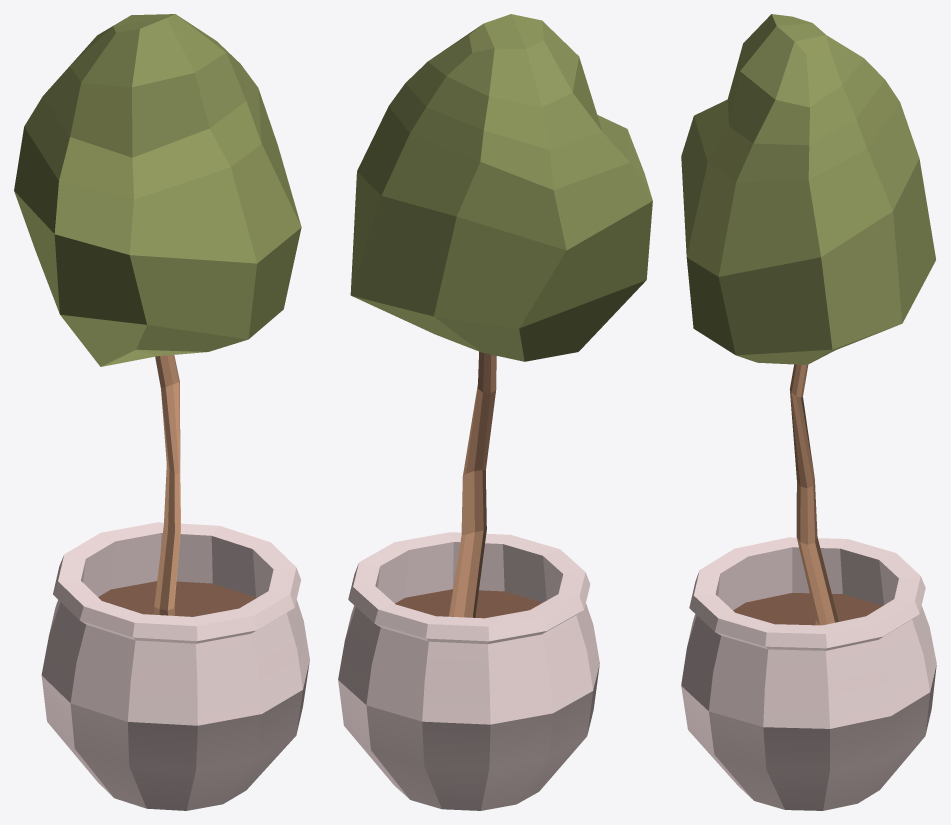
File: Patio_Tree.fbx
3 renders of one model, left to right at view 1: azimuth 30°, elevation 25°; view 2: azimuth 150°, elevation 25°; view 3: azimuth 270°, elevation 25°, orthographic. The views are drawn at different scales.
Parts seen in each view (by area): view 1: Patio_Tree; view 2: Patio_Tree; view 3: Patio_Tree.
Part boxes in pixels (left/top/right/bottom): Patio_Tree: left=14, top=14, right=309, bottom=810; Patio_Tree: left=338, top=14, right=652, bottom=810; Patio_Tree: left=681, top=14, right=936, bottom=810.
Size of the model in its own units: 73.97 by 203 by 63.43.
